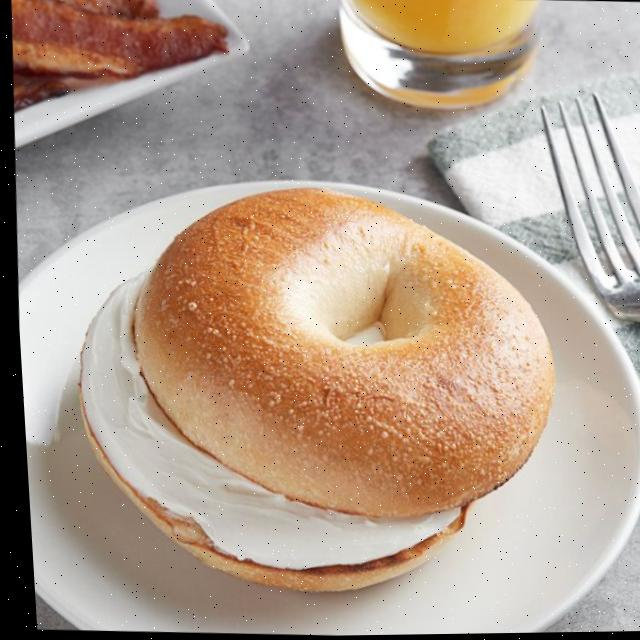Bagel: (131, 190, 548, 517)
